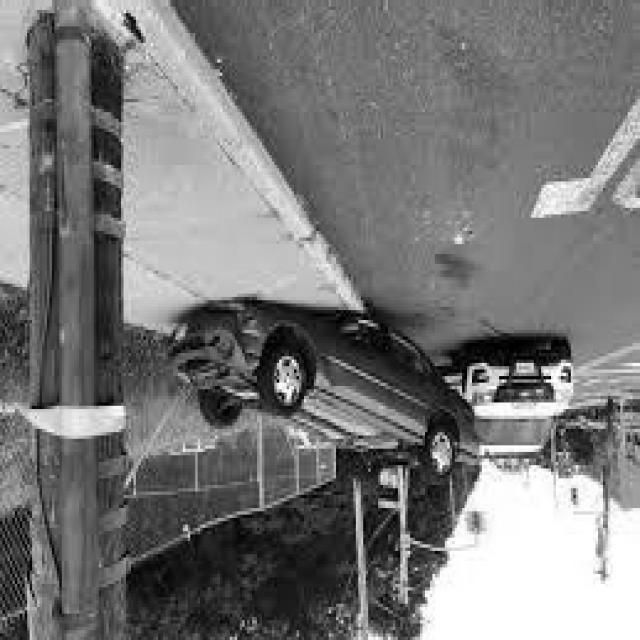severe: (162, 300, 480, 488)
